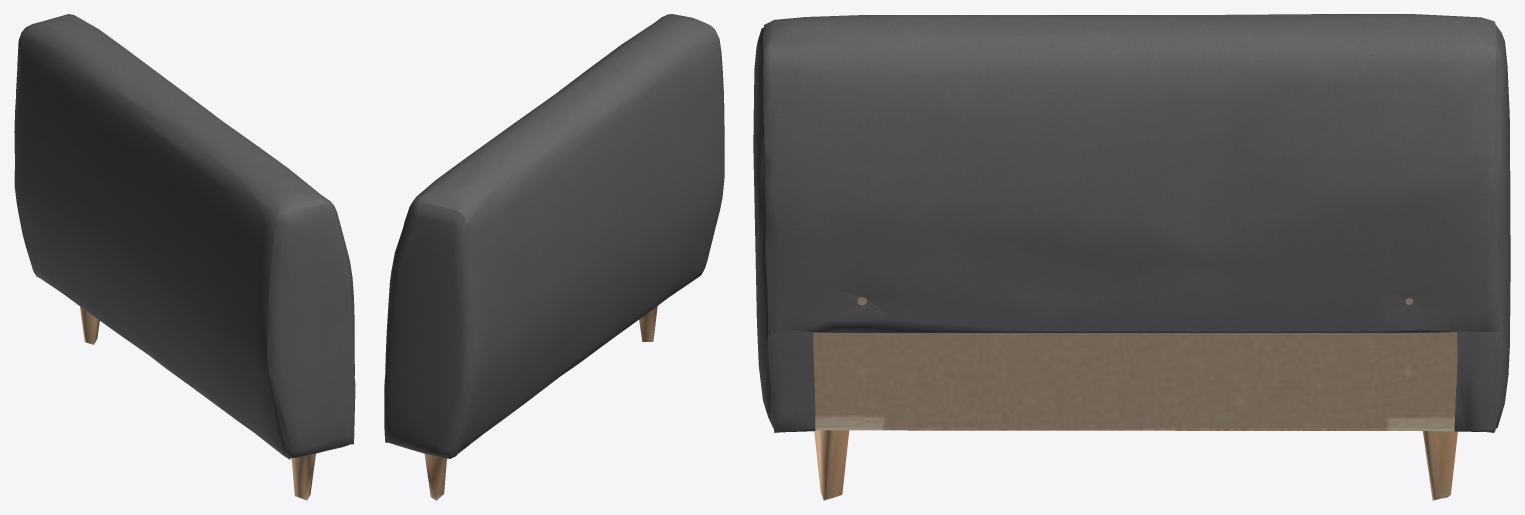
The model's file is sofa.glb.
The picture shows the model from 3 angles, left to right: view 1: azimuth 30°, elevation 25°; view 2: azimuth 150°, elevation 25°; view 3: azimuth 270°, elevation 25°; orthographic projection. The views are drawn at different scales.
Visible parts, largest first — view 1: model; view 2: model; view 3: model.
Boxes of the visible parts, left/top/right/bottom form: model: left=14, top=14, right=355, bottom=500; model: left=384, top=14, right=724, bottom=500; model: left=753, top=14, right=1510, bottom=500.
Bounding box in the file's own units: 0.1953 × 0.6409 × 0.9494.
Materials: 2 (2 with a texture image).
